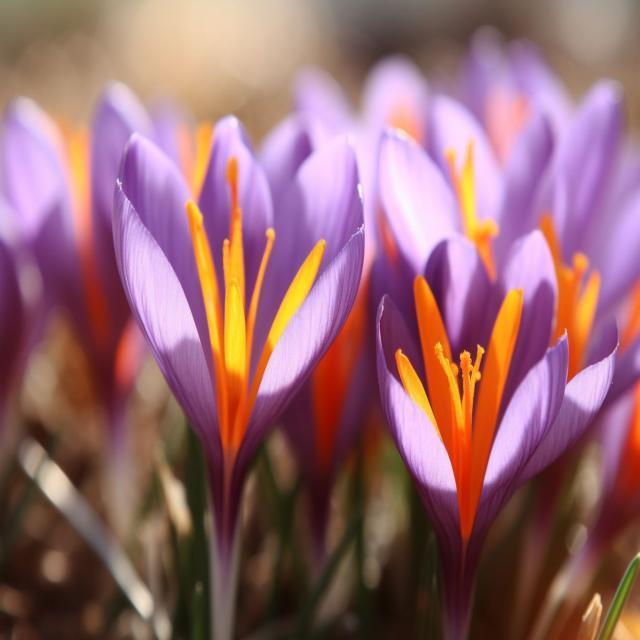Flower: (378, 73, 628, 432), (96, 141, 374, 427), (360, 280, 590, 588), (0, 89, 82, 386)
